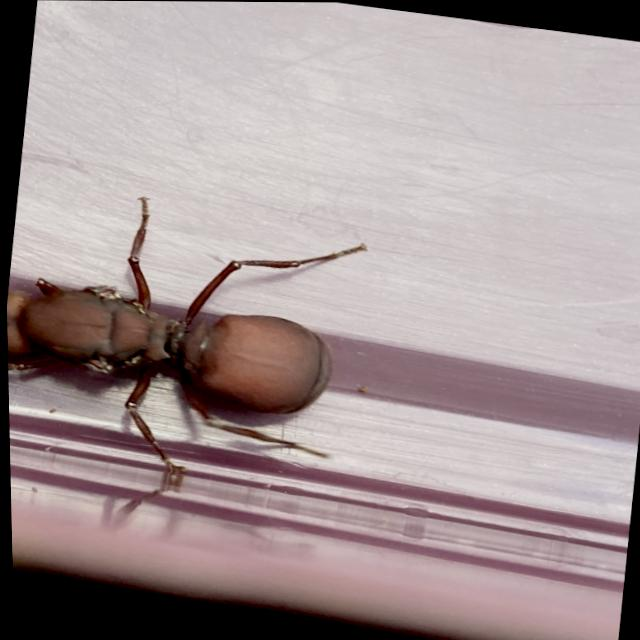Alive-Female-Dealate: (3, 178, 372, 493)
